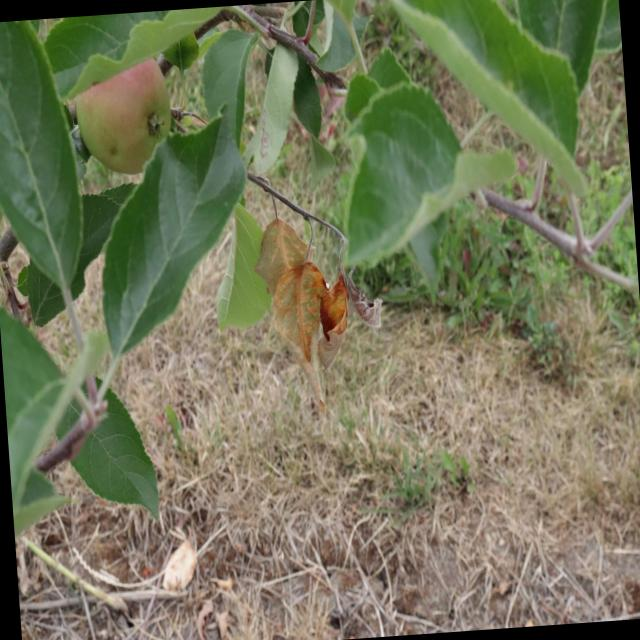-FireBlight-: (242, 202, 382, 396)
